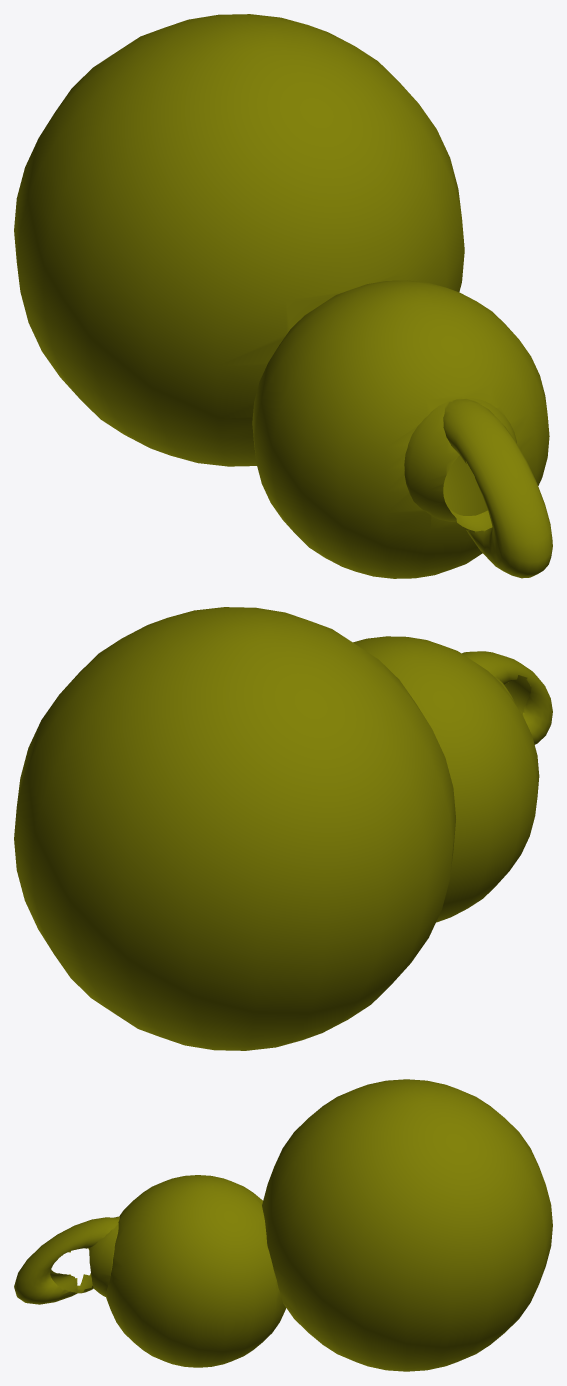
File: BossPoligono.fbx
The picture shows the model from 3 angles, top to bottom: view 1: azimuth 30°, elevation 25°; view 2: azimuth 150°, elevation 25°; view 3: azimuth 270°, elevation 25°; orthographic projection. The views are drawn at different scales.
Visible parts, largest first — view 1: Armaduira; view 2: Armaduira; view 3: Armaduira.
Boxes of the visible parts, x1,y1,x2,y2 form: Armaduira: (14,14,552,578); Armaduira: (14,607,552,1050); Armaduira: (14,1079,552,1371).
Bounding box in the file's own units: 20.07 × 20.13 × 36.97.
